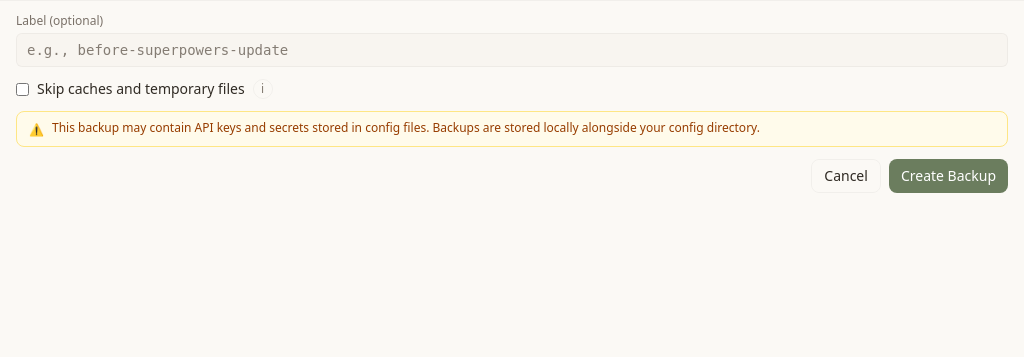
it: BackupCreateForm › info button toggles info popover with pattern text
The width and height of the screenshot is (1024, 357).
Expected: the text "agent-cache/**" is not shown
Click to show
Click the button named "Toggle cache pattern info".
click(263, 89)  # box [253,79,273,99]
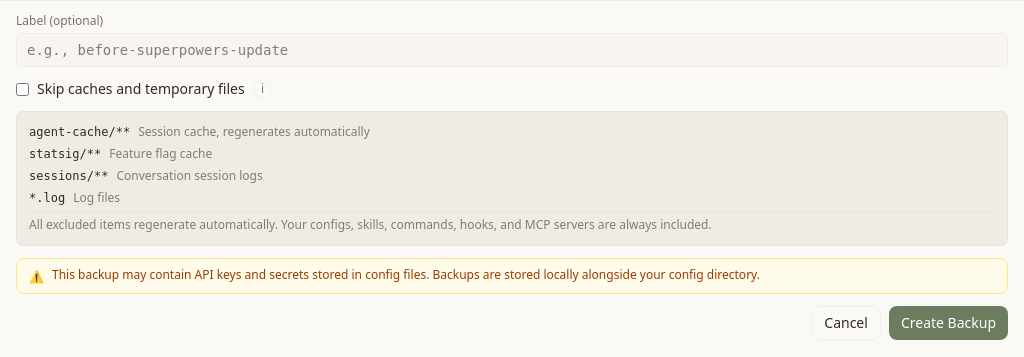
Now the text "agent-cache/**" is shown, box [29,124,130,140]
Now the text "Session cache, regenerates automatically" is shown, box [138,124,370,140]
Now the text "All excluded items regenerate automatically" is shown, box [29,216,712,233]
Click again to hide
Click the button named "Toggle cache pattern info".
click(263, 89)  # box [253,79,273,99]
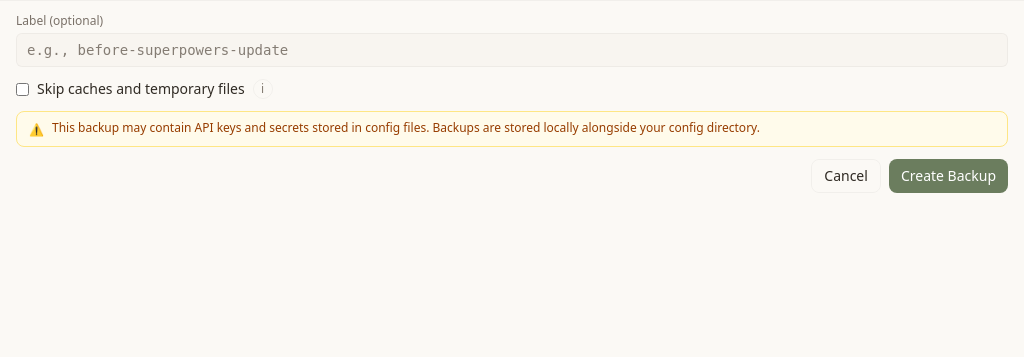
Now the text "agent-cache/**" is gone
